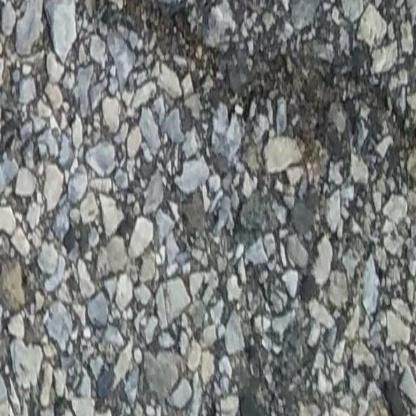Cracks: (0, 0, 416, 206)
